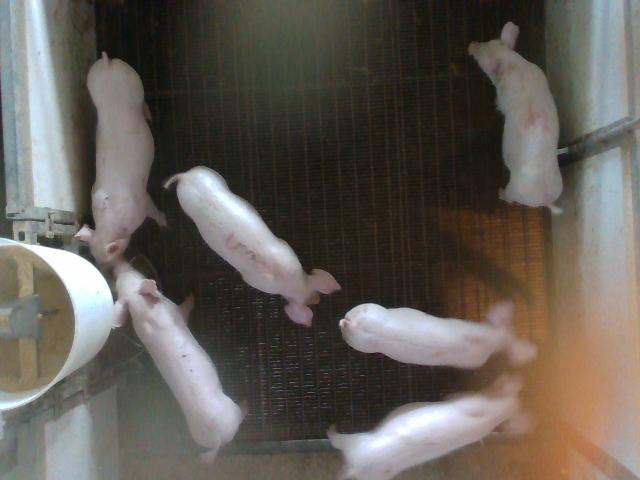pig-3: (165, 166, 340, 326)
pig-4: (469, 22, 562, 214)
